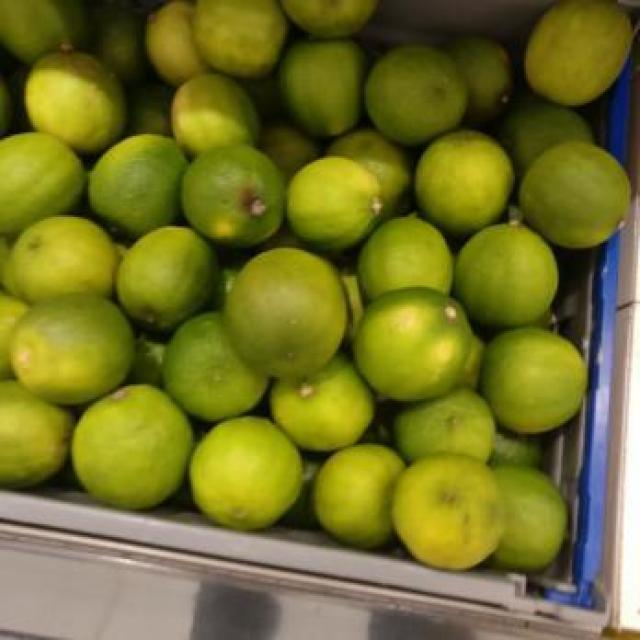-: (9, 298, 142, 408), (522, 138, 638, 256), (182, 425, 312, 526), (355, 289, 472, 396), (484, 324, 589, 438), (403, 466, 508, 580), (7, 208, 124, 298), (285, 140, 384, 241)
